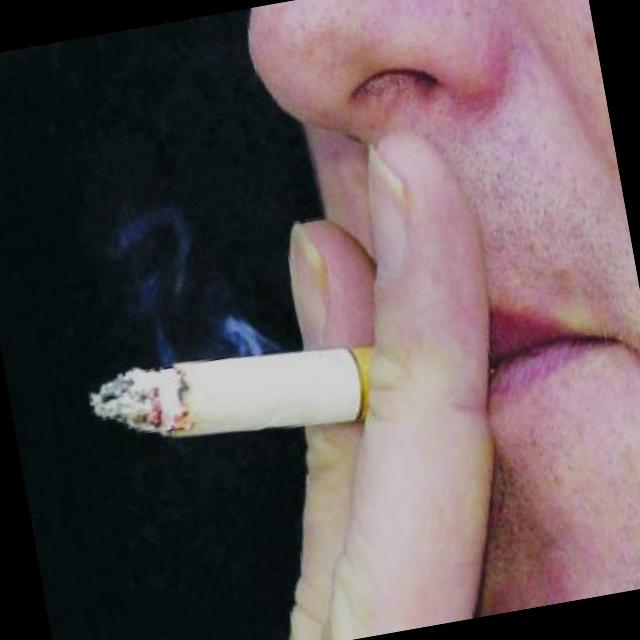cigarette: (77, 327, 388, 472)
